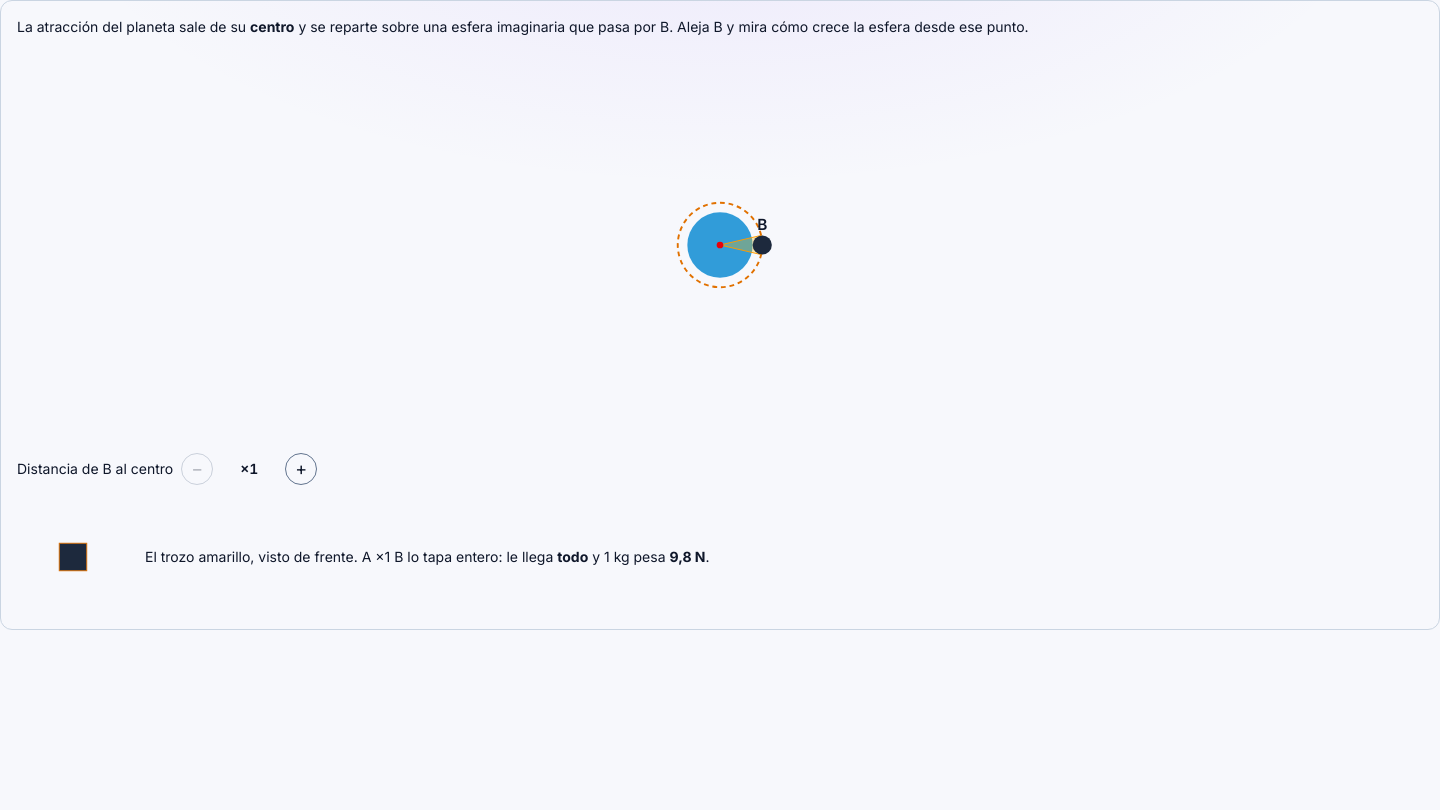
GrowingSphere › spreads the patch over d × d holes and gives B 1/d² as it moves away
Click the button named "Más: Distancia de B al centro" at (301, 469), box [285,453,317,485]
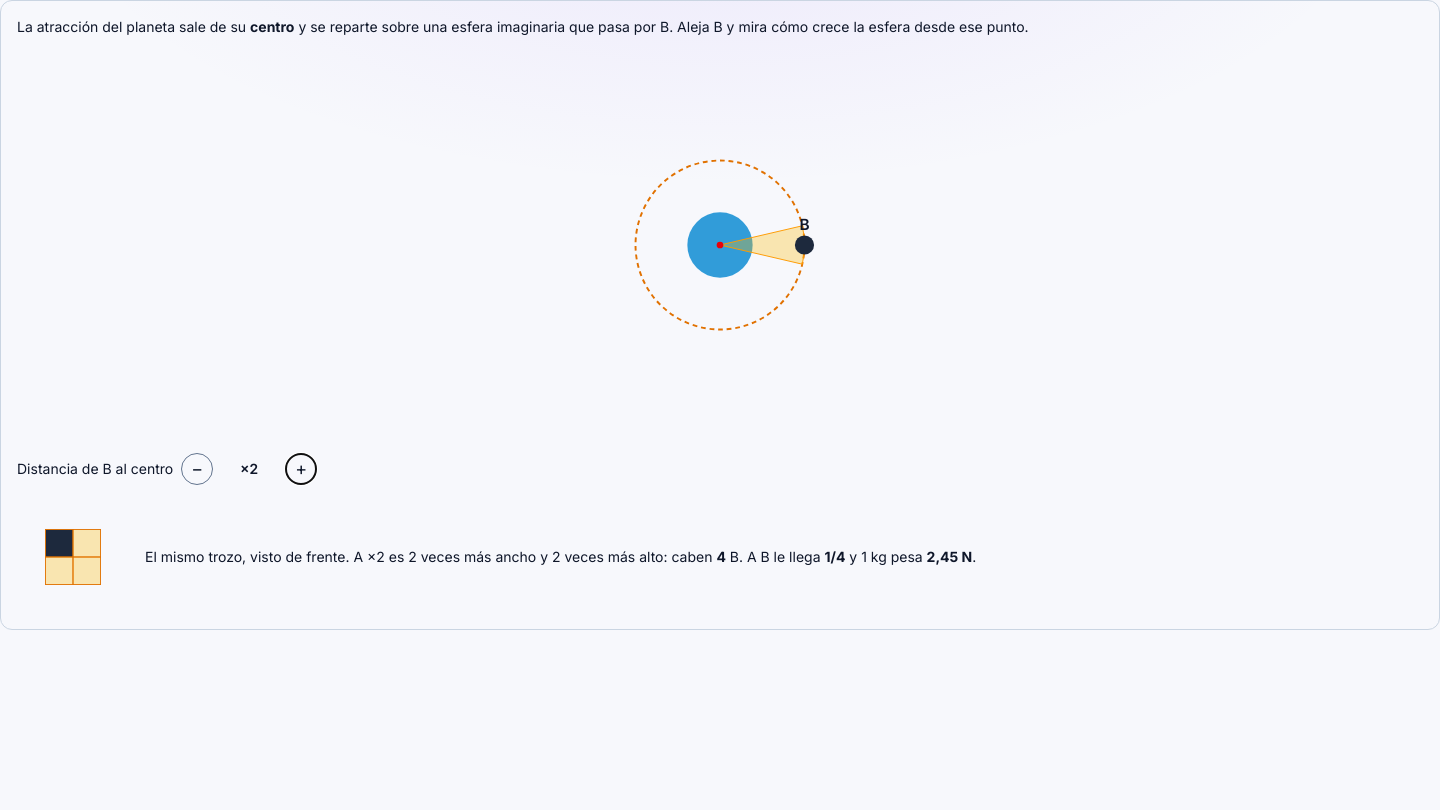
expect the picture named "Vista lateral: B a distancia ×2 del centro del planeta, sobre la esfera que crece desde ese centro" is shown: met, box [528,53,912,437]
expect the text "A ×2 es 2 veces más ancho y 2 veces más alto: caben 4 B. A B le llega 1/4 y 1 kg pesa 2,45 N." is shown: met, box [145,547,976,567]
Click the button named "Más: Distancia de B al centro" at (301, 469), box [285,453,317,485]
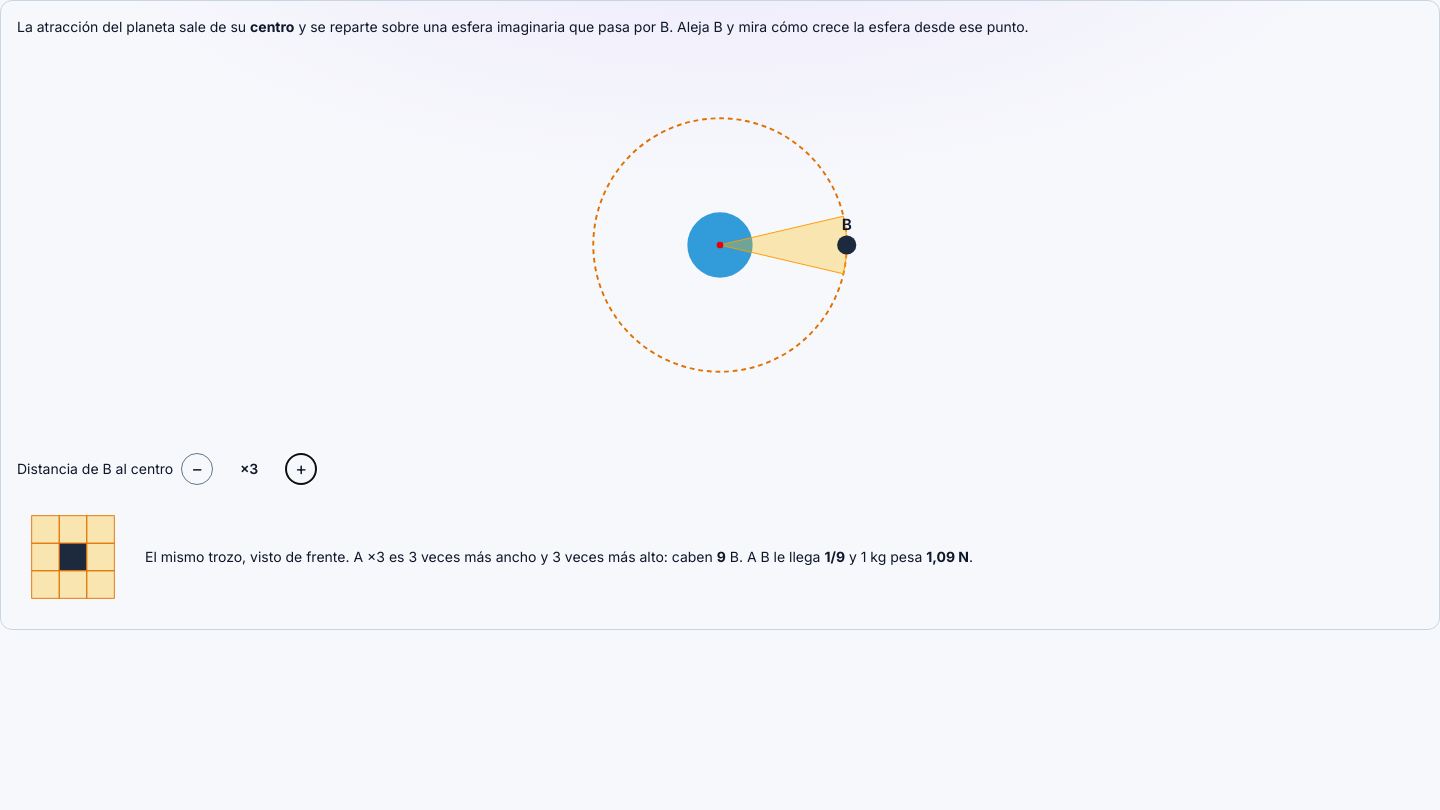
expect the text "caben 9 B. A B le llega 1/9 y 1 kg pesa 1,09 N." is shown: met, box [145,547,973,567]
Click the button named "Más: Distancia de B al centro" at (301, 469), box [285,453,317,485]
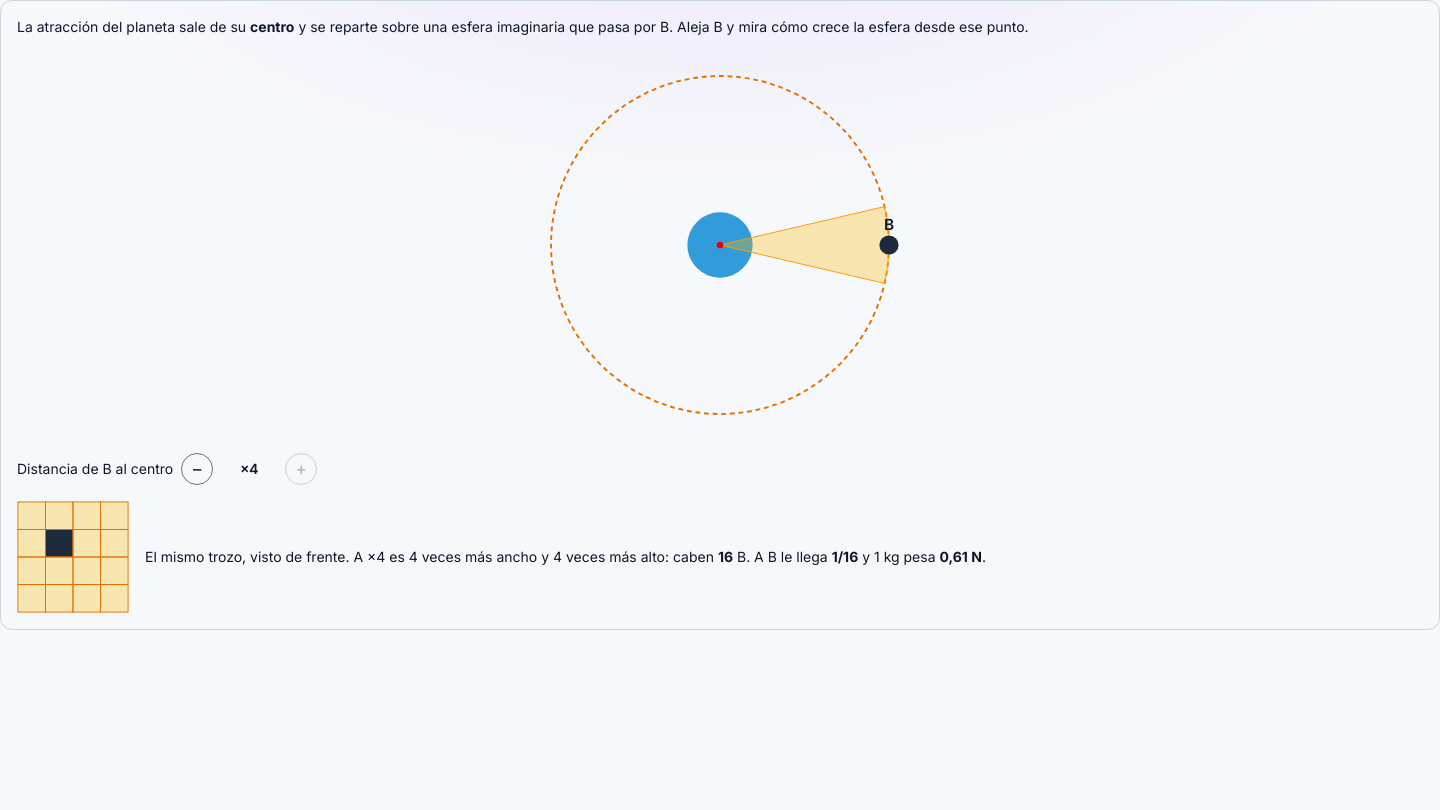
expect the text "caben 16 B. A B le llega 1/16 y 1 kg pesa 0,61 N." is shown: met, box [145,547,986,567]
expect the button named "Más: Distancia de B al centro" is disabled: met, box [285,453,317,485]
